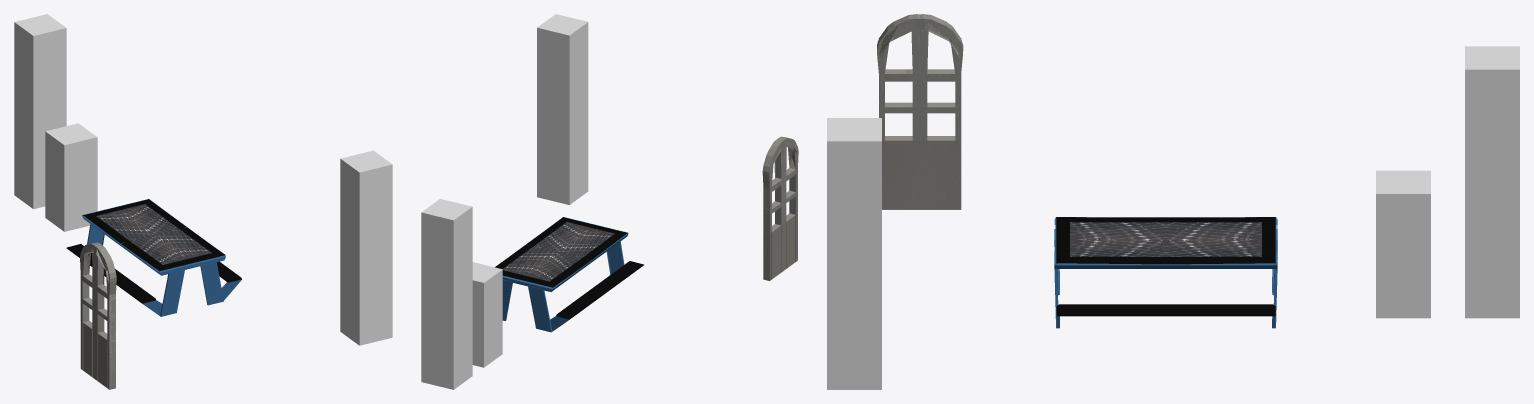
The model's file is metaldetector11.fbx.
The picture shows the model from 3 angles, left to right: view 1: azimuth 30°, elevation 25°; view 2: azimuth 150°, elevation 25°; view 3: azimuth 270°, elevation 25°; orthographic projection. The views are drawn at different scales.
Parts seen in each view (by area): view 1: Cube, Outside_Desk_Tisch, shelf_height, players_height, gun_check; view 2: shelf_height, Cube, Outside_Desk_Tisch, gun_check, players_height; view 3: shelf_height, Outside_Desk_Tisch, Cube, gun_check, players_height.
Boxes of the visible parts, box(x1,y1,x2,y2) form: Cube: box(340, 150, 392, 345); Outside_Desk_Tisch: box(66, 199, 241, 316); shelf_height: box(14, 14, 66, 209); players_height: box(45, 123, 97, 231); gun_check: box(80, 242, 116, 389); shelf_height: box(421, 199, 472, 389); Cube: box(537, 14, 588, 204); Outside_Desk_Tisch: box(495, 217, 643, 332); gun_check: box(762, 136, 798, 280); players_height: box(472, 262, 502, 367); shelf_height: box(1465, 46, 1519, 318); Outside_Desk_Tisch: box(1054, 217, 1277, 328); Cube: box(827, 118, 881, 389); gun_check: box(877, 14, 963, 209); players_height: box(1376, 170, 1430, 318).
Bounding box in the file's own units: 1602 × 1004 × 2525.
